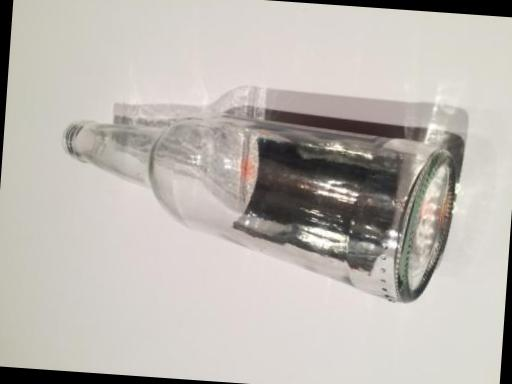glass: (29, 84, 489, 320)
